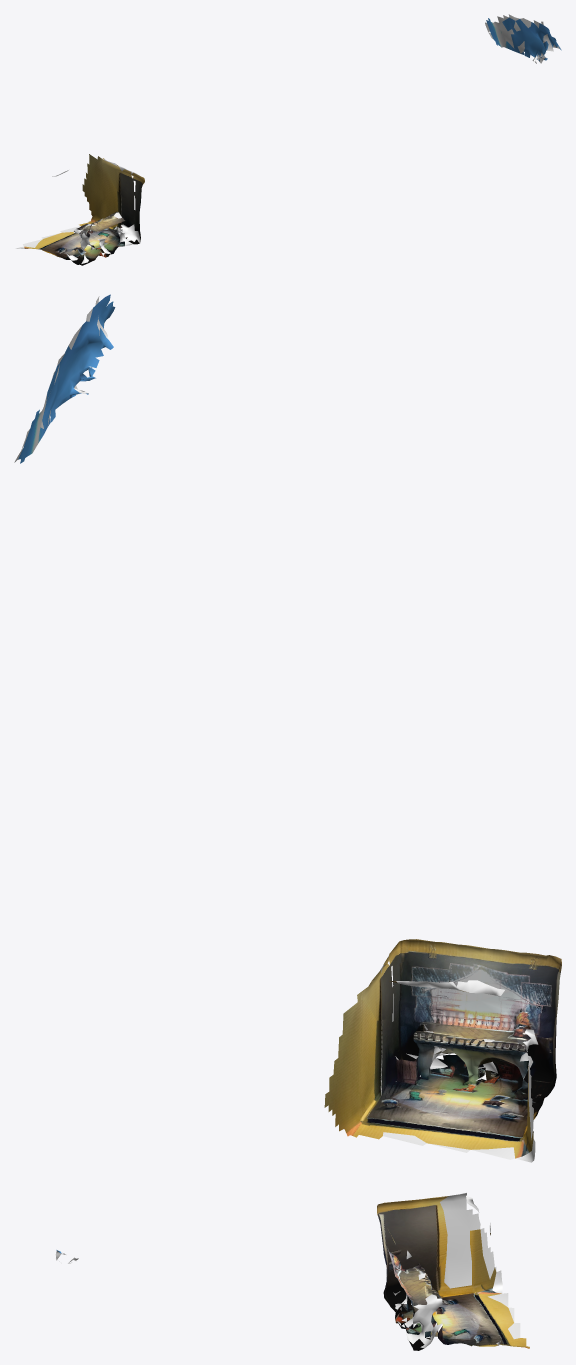
The picture shows the model from 3 angles, top to bottom: view 1: azimuth 30°, elevation 25°; view 2: azimuth 150°, elevation 25°; view 3: azimuth 270°, elevation 25°; orthographic projection. The views are drawn at different scales.
Parts seen in each view (by area): view 1: texture_0, object 1; view 2: texture_0, object 1; view 3: texture_0, object 1.
Part boxes in pixels (x1,y1,x2,y2): texture_0: (24, 17, 561, 265); object 1: (16, 14, 559, 263); texture_0: (18, 294, 561, 1158); object 1: (14, 296, 538, 1162); texture_0: (56, 1196, 529, 1350); object 1: (55, 1192, 520, 1348).
Size of the model in its own units: 2.22 by 1.36 by 1.84.
2 materials, 1 textured.
